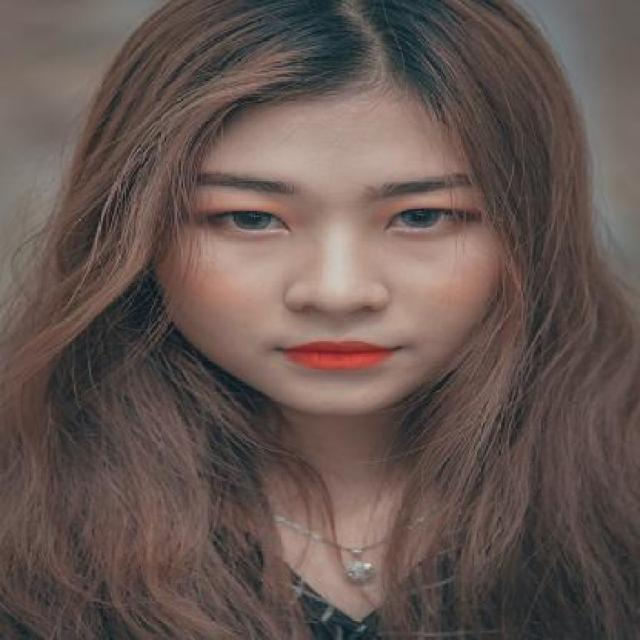closed-mouth: (272, 333, 412, 375)
